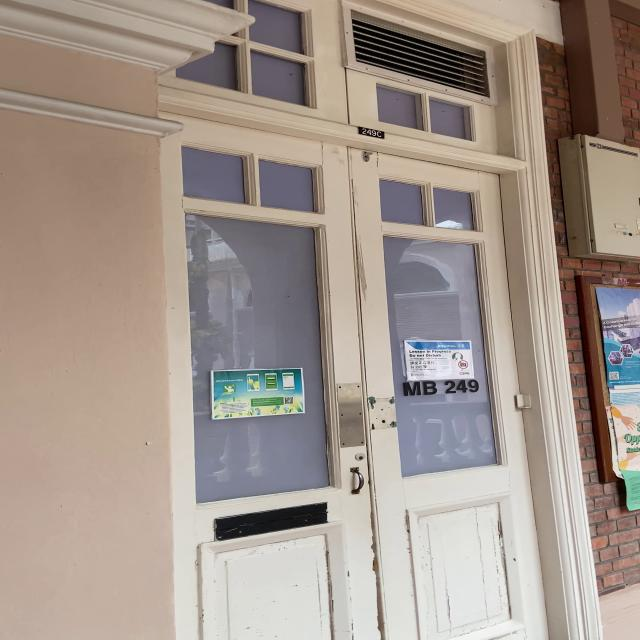room249c: (354, 124, 387, 140)
room249cWindow: (399, 380, 480, 396)
